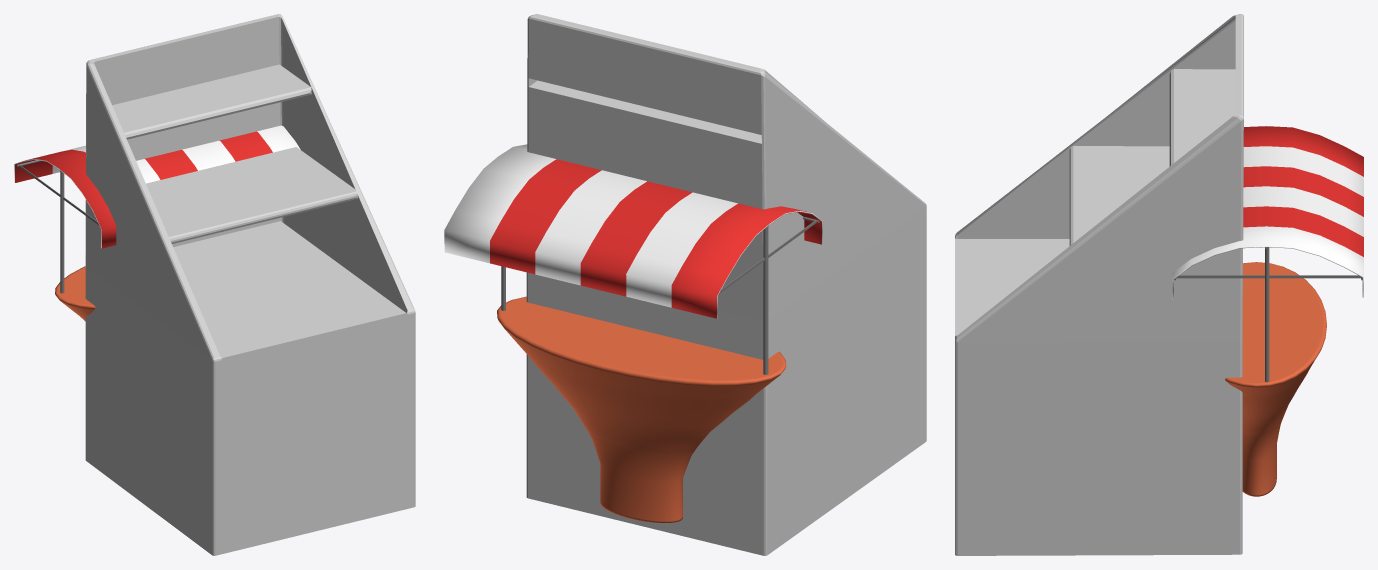
The model's file is ESERNYOSFASZ.fbx.
The picture shows the model from 3 angles, left to right: view 1: azimuth 30°, elevation 25°; view 2: azimuth 150°, elevation 25°; view 3: azimuth 270°, elevation 25°; orthographic projection. The views are drawn at different scales.
Visible parts, largest first — view 1: Cube, Plane, Cylinder, Cylinder.004; view 2: Cube, Plane, Cylinder, Cylinder.004; view 3: Cube, Plane, Cylinder, Cylinder.004.
Boxes of the visible parts, box(x1,y1,x2,y2) form: Cube: box(85, 14, 415, 555); Plane: box(14, 125, 300, 248); Cylinder: box(55, 266, 95, 321); Cylinder.004: box(17, 160, 99, 293); Cube: box(526, 14, 926, 555); Plane: box(444, 144, 822, 318); Cylinder: box(497, 296, 786, 522); Cylinder.004: box(501, 216, 819, 374); Cube: box(955, 14, 1243, 555); Plane: box(1172, 126, 1363, 299); Cylinder: box(1225, 262, 1326, 496); Cylinder.004: box(1173, 247, 1362, 382).
Size of the model in its own units: 61.62 by 102 by 86.14.
